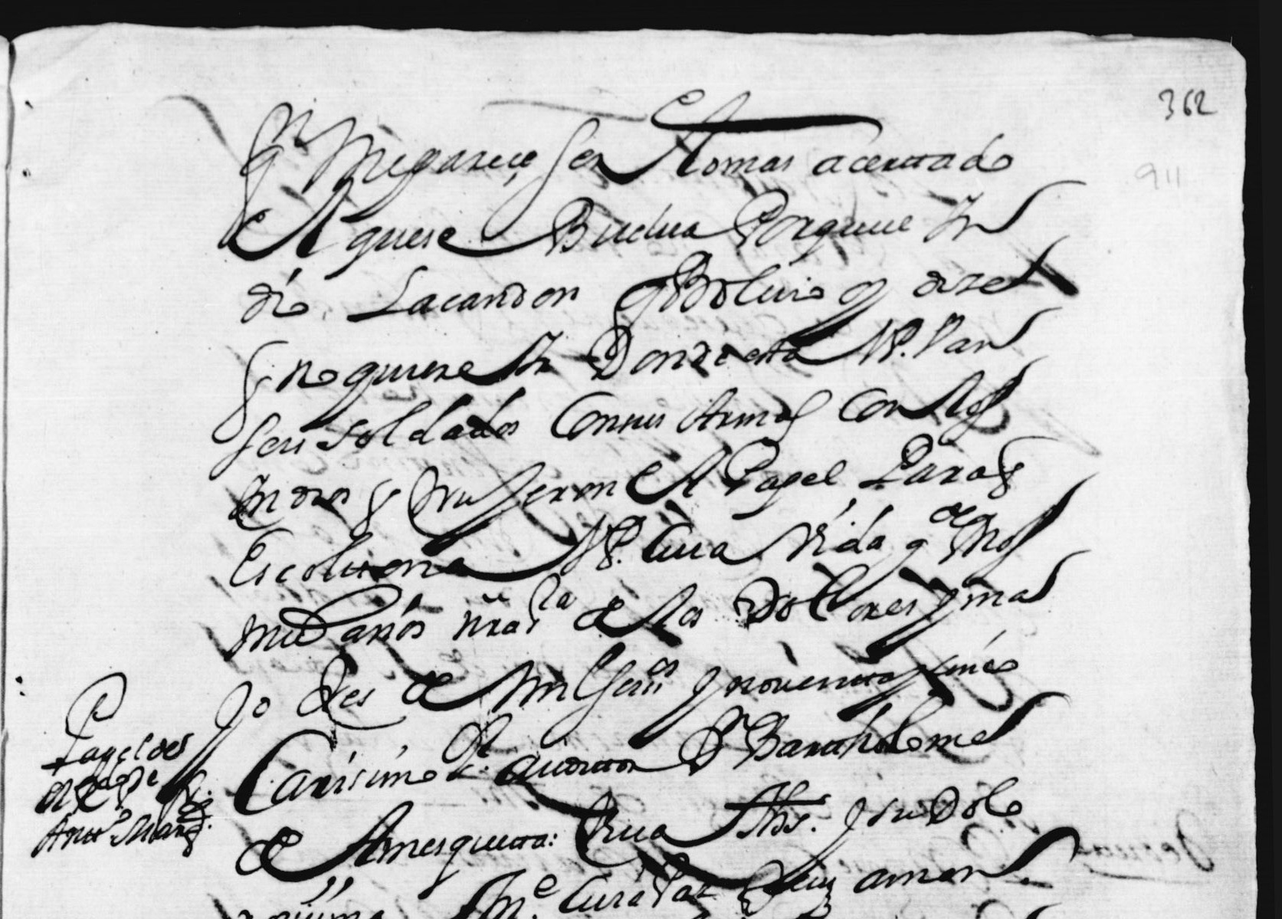lacandon: (346, 264, 579, 323)
